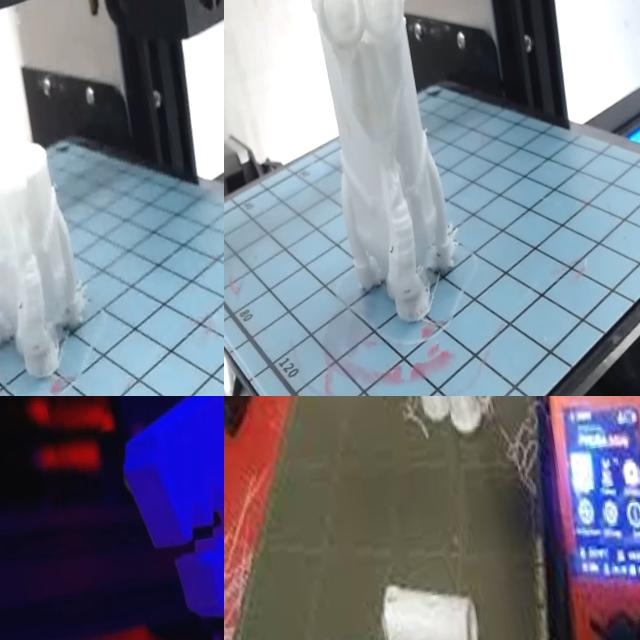spaghetti: (490, 396, 538, 495), (380, 396, 437, 470)
